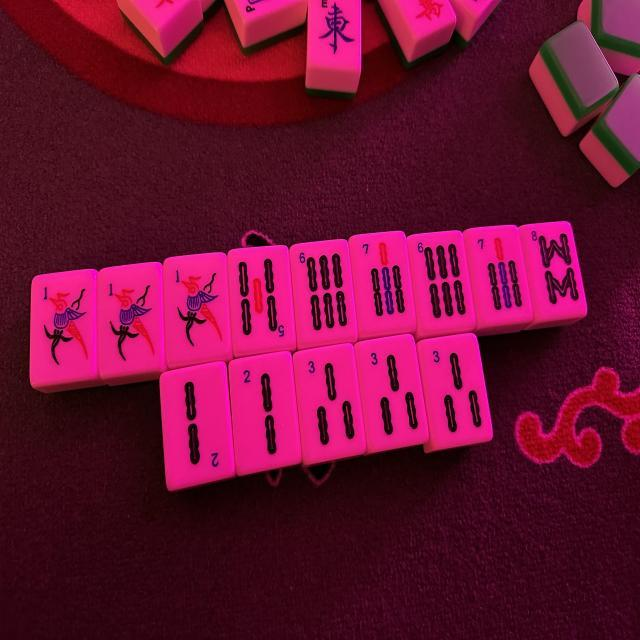sb1: (35, 280, 92, 372), (102, 278, 160, 366), (172, 266, 226, 349)
sb2: (171, 376, 228, 470), (235, 366, 289, 462)
sb3: (424, 345, 489, 443), (364, 344, 424, 443), (301, 353, 361, 446)
sb5: (232, 254, 288, 344)
sb6: (293, 247, 351, 336)
sb7: (473, 232, 526, 318)
sb8: (530, 224, 582, 310)
sb9: (352, 232, 412, 336), (409, 233, 472, 327)
